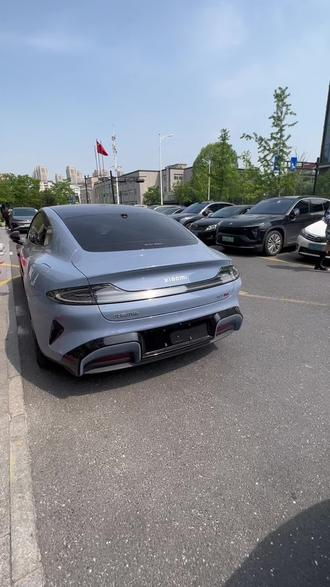other: (213, 189, 330, 255)
su7: (20, 202, 247, 380)
